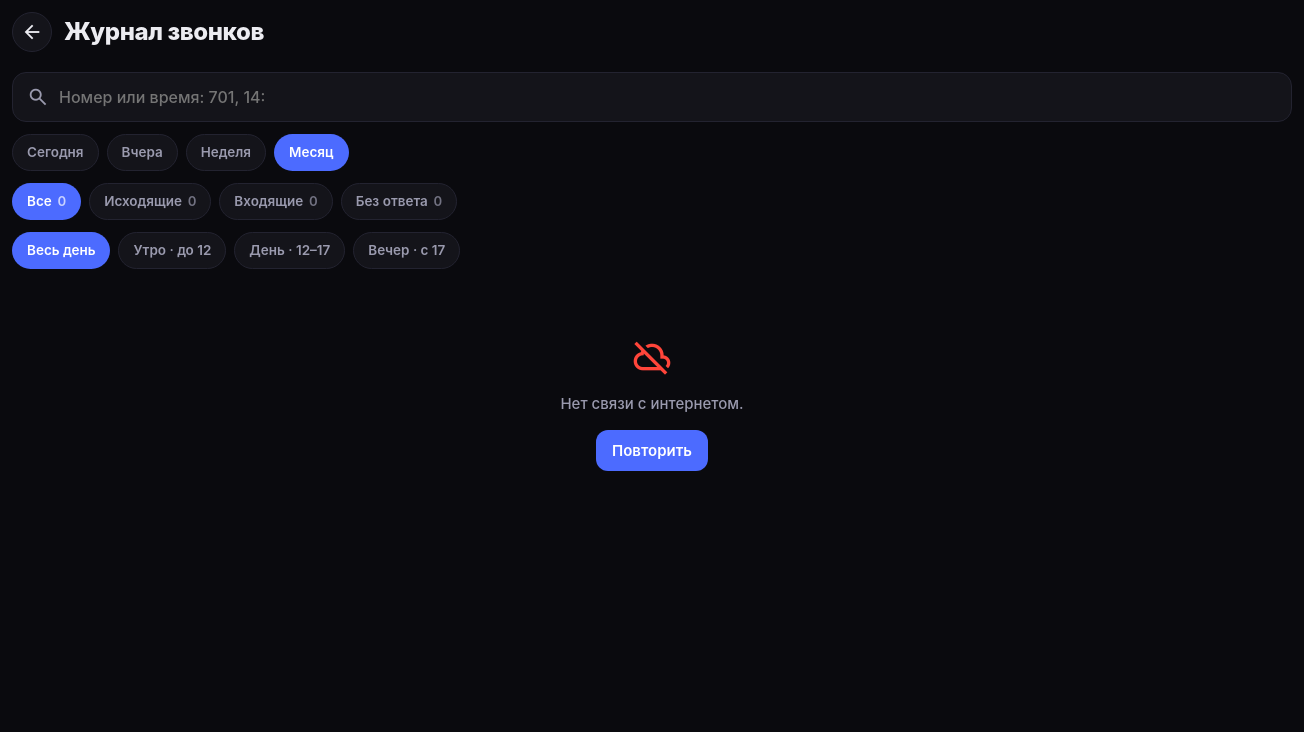
журнал звонков › после сбоя «Повторить» правда загружает снова
This screenshot has width=1304, height=732.
Click the button "Повторить" at (652, 451), box [596, 430, 708, 471]
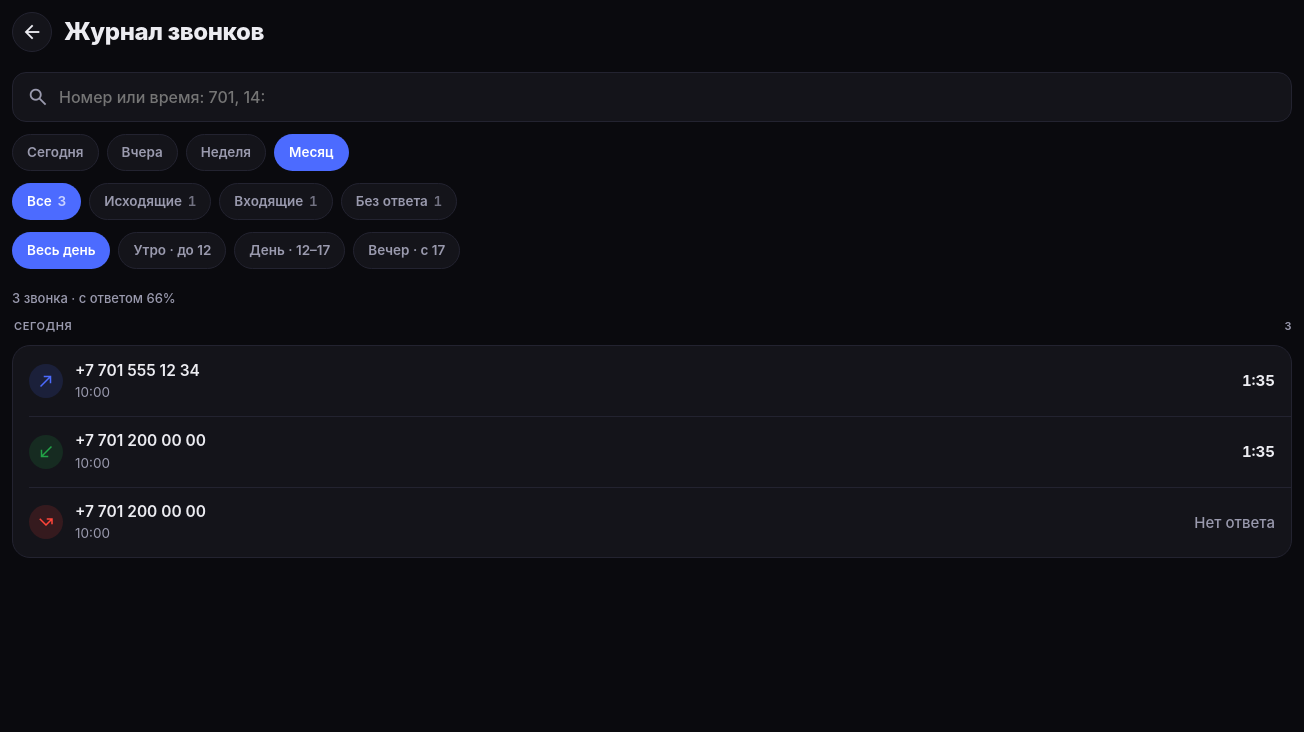
Now the text "+7 701 555 12 34" is shown, box [75, 361, 200, 380]
